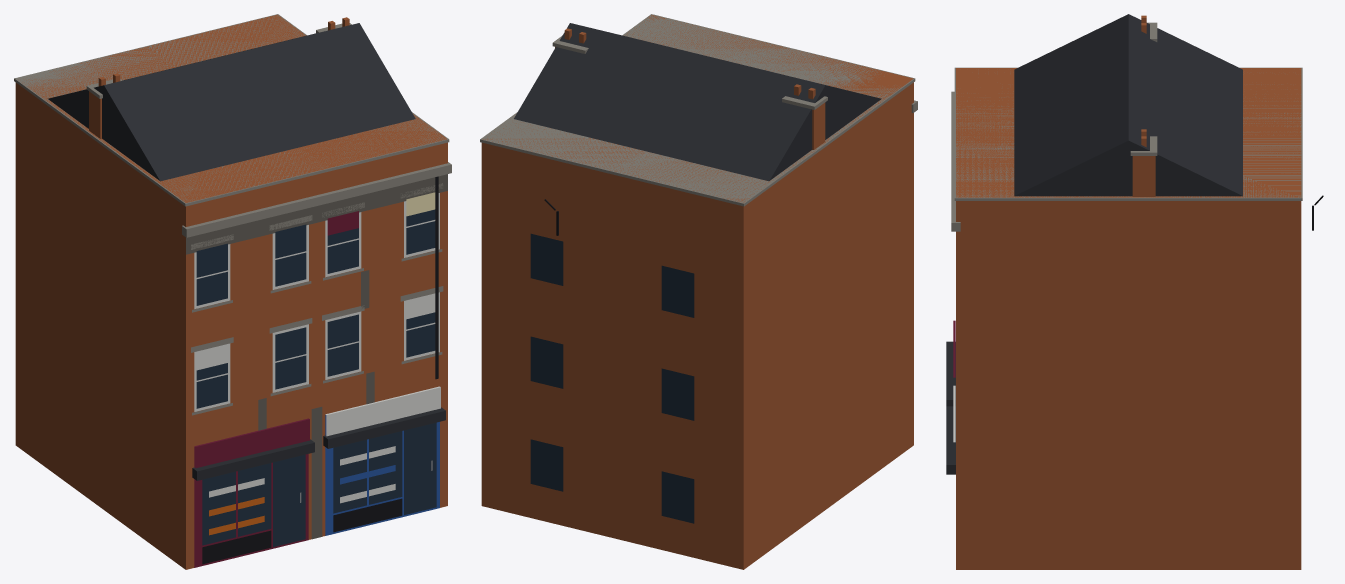
File: building_rye-lane-terrace_d.e21f0d68c268.glb
The picture shows the model from 3 angles, left to right: view 1: azimuth 30°, elevation 25°; view 2: azimuth 150°, elevation 25°; view 3: azimuth 270°, elevation 25°; orthographic projection.
Visible parts, largest first — view 1: body; view 2: body; view 3: body.
Part boxes in pixels (left/top/right/bottom): body: left=14, top=14, right=451, bottom=569; body: left=480, top=14, right=917, bottom=569; body: left=946, top=14, right=1323, bottom=569.
Size of the model in its own units: 8.1 by 12.3 by 10.01.
